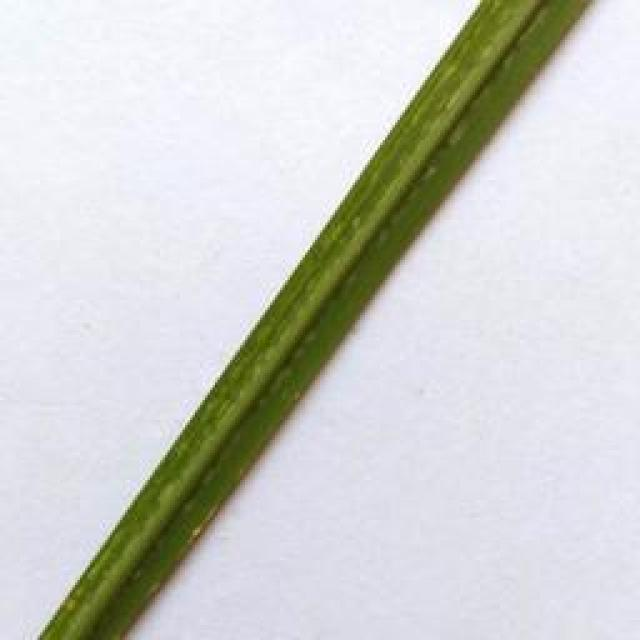Healthy-Plant: (41, 0, 598, 640)
